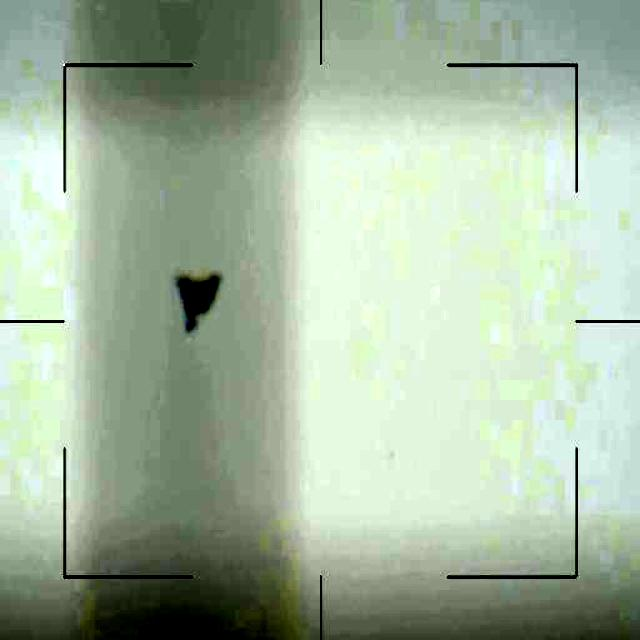bird: (171, 262, 224, 334)
